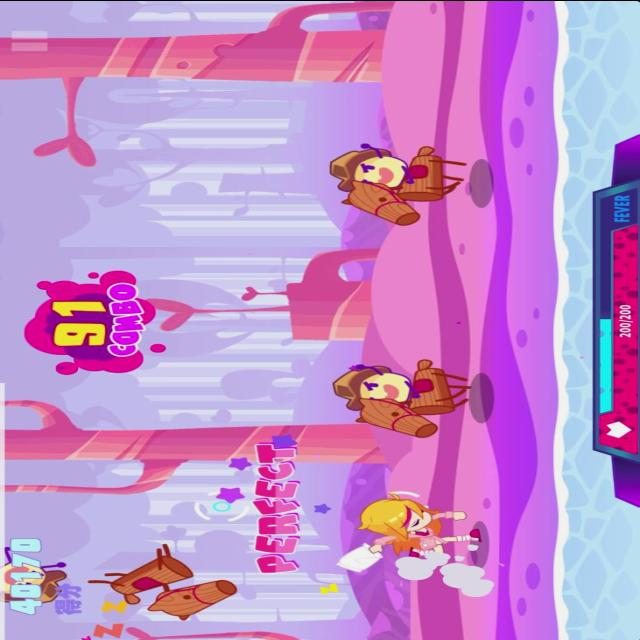qiu: (323, 140, 477, 227), (327, 356, 480, 438)
